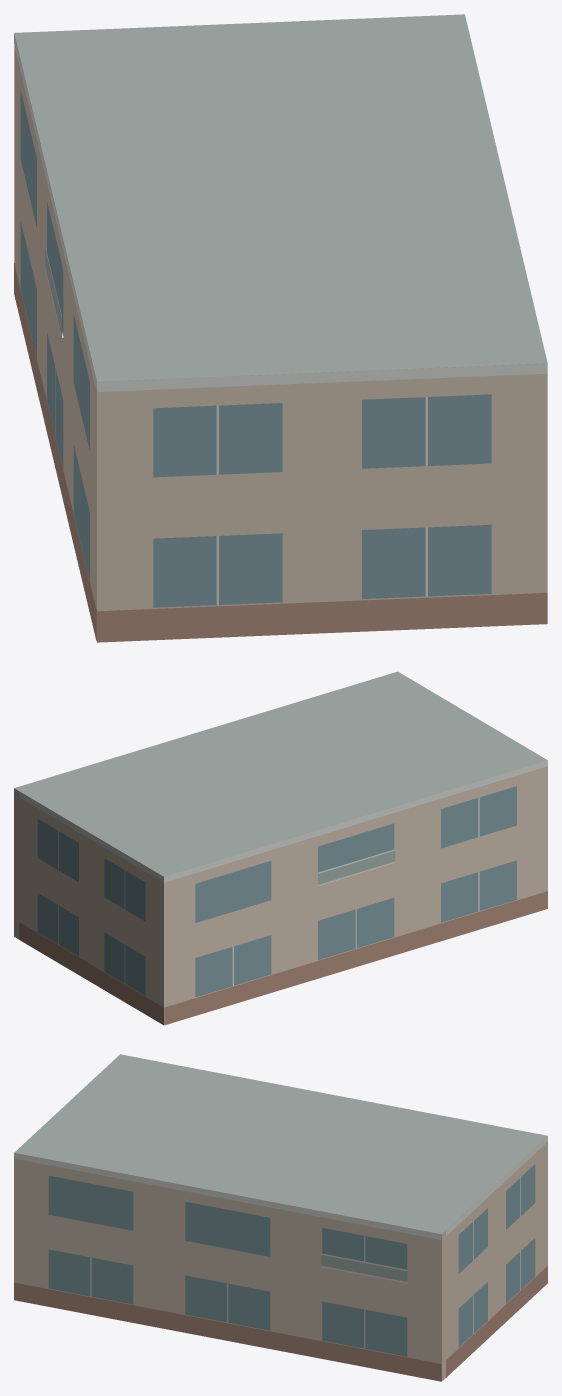
File: survey-upis-32663165.glb
3 renders of one model, top to bottom at view 1: azimuth 30°, elevation 25°; view 2: azimuth 150°, elevation 25°; view 3: azimuth 270°, elevation 25°, orthographic. The views are drawn at different scales.
Parts seen in each view (by area): view 1: survey-upis-32663165.tmp; view 2: survey-upis-32663165.tmp; view 3: survey-upis-32663165.tmp.
Boxes of the visible parts, box(x1,y1,x2,y2) form: survey-upis-32663165.tmp: box(14, 14, 547, 642); survey-upis-32663165.tmp: box(14, 671, 547, 1025); survey-upis-32663165.tmp: box(14, 1054, 547, 1381).
Size of the model in its own units: 15.98 by 6.1 by 20.02.
